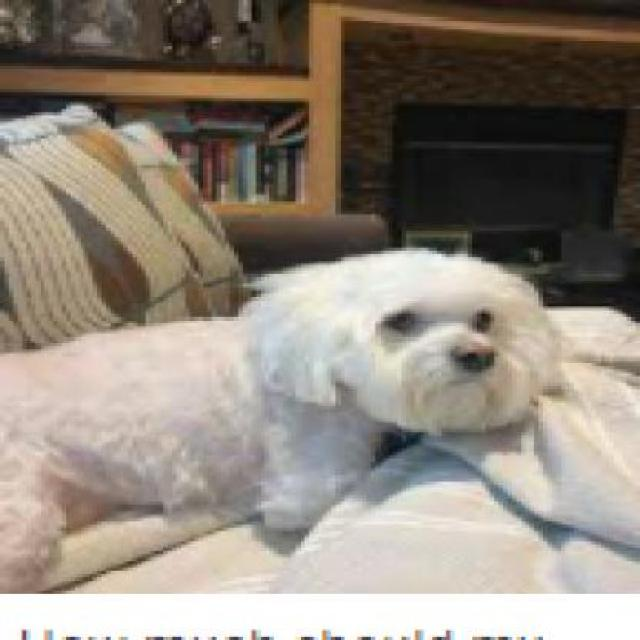Dog: (0, 246, 565, 580)
